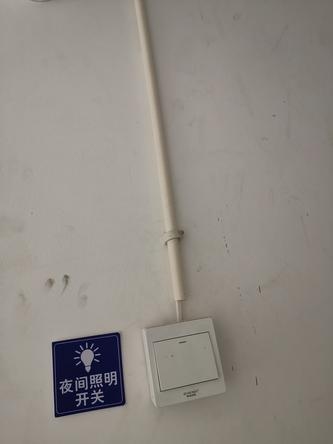switch: (148, 327, 219, 394)
